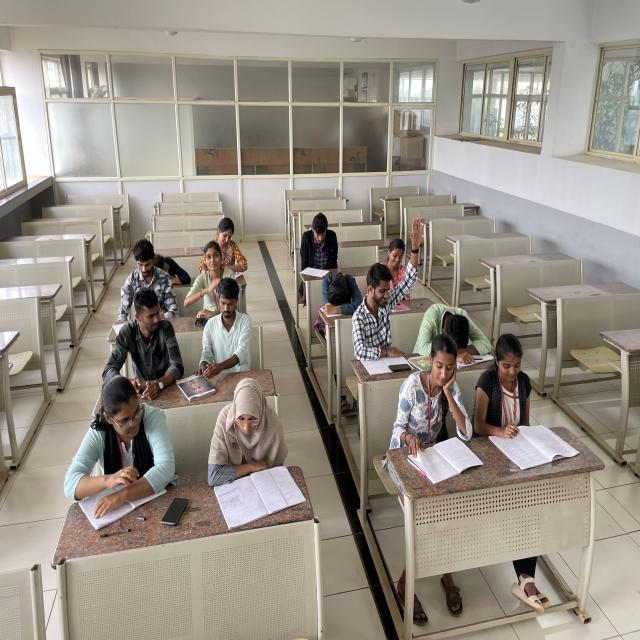Hand Rising: (347, 218, 427, 324)
Reading: (203, 382, 309, 515), (398, 334, 488, 466), (288, 211, 348, 282)
Sleeping: (416, 299, 496, 366), (315, 268, 364, 317)
Using Phone: (102, 293, 188, 404)
Writing: (480, 331, 565, 453)
